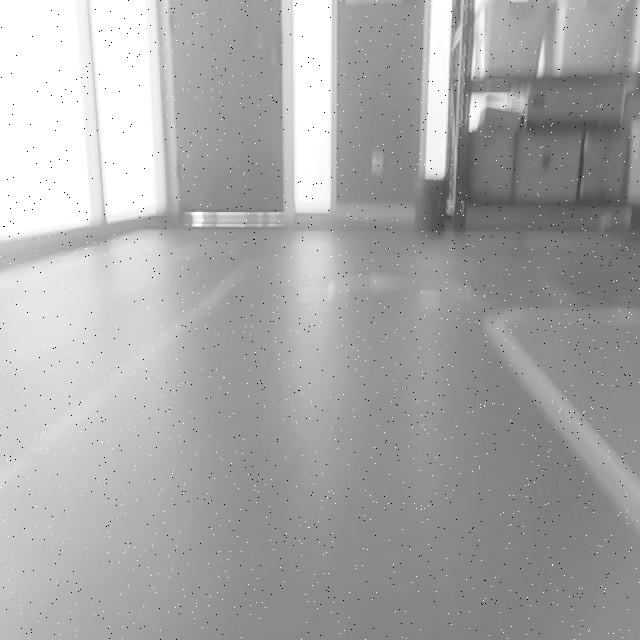left_lane: (2, 268, 250, 493)
right_lane: (482, 317, 640, 532)
